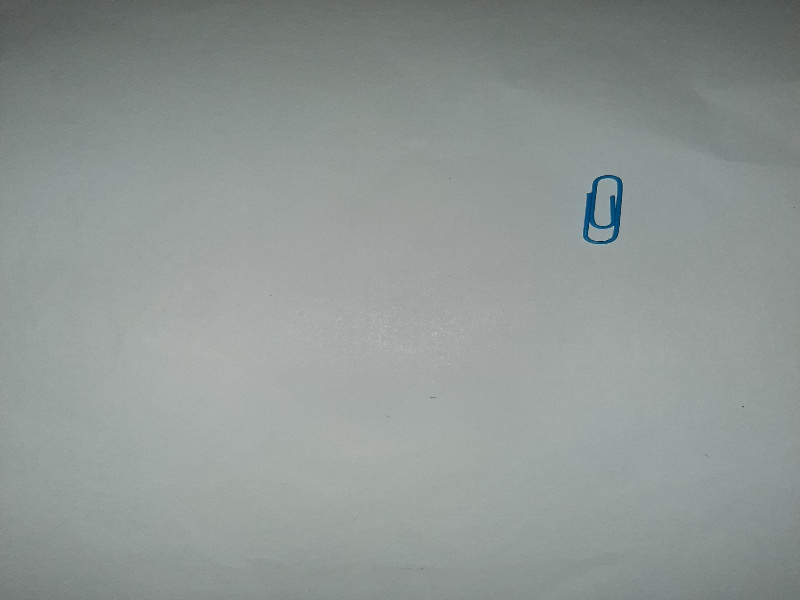Small Jumpclip: (581, 172, 627, 252)
